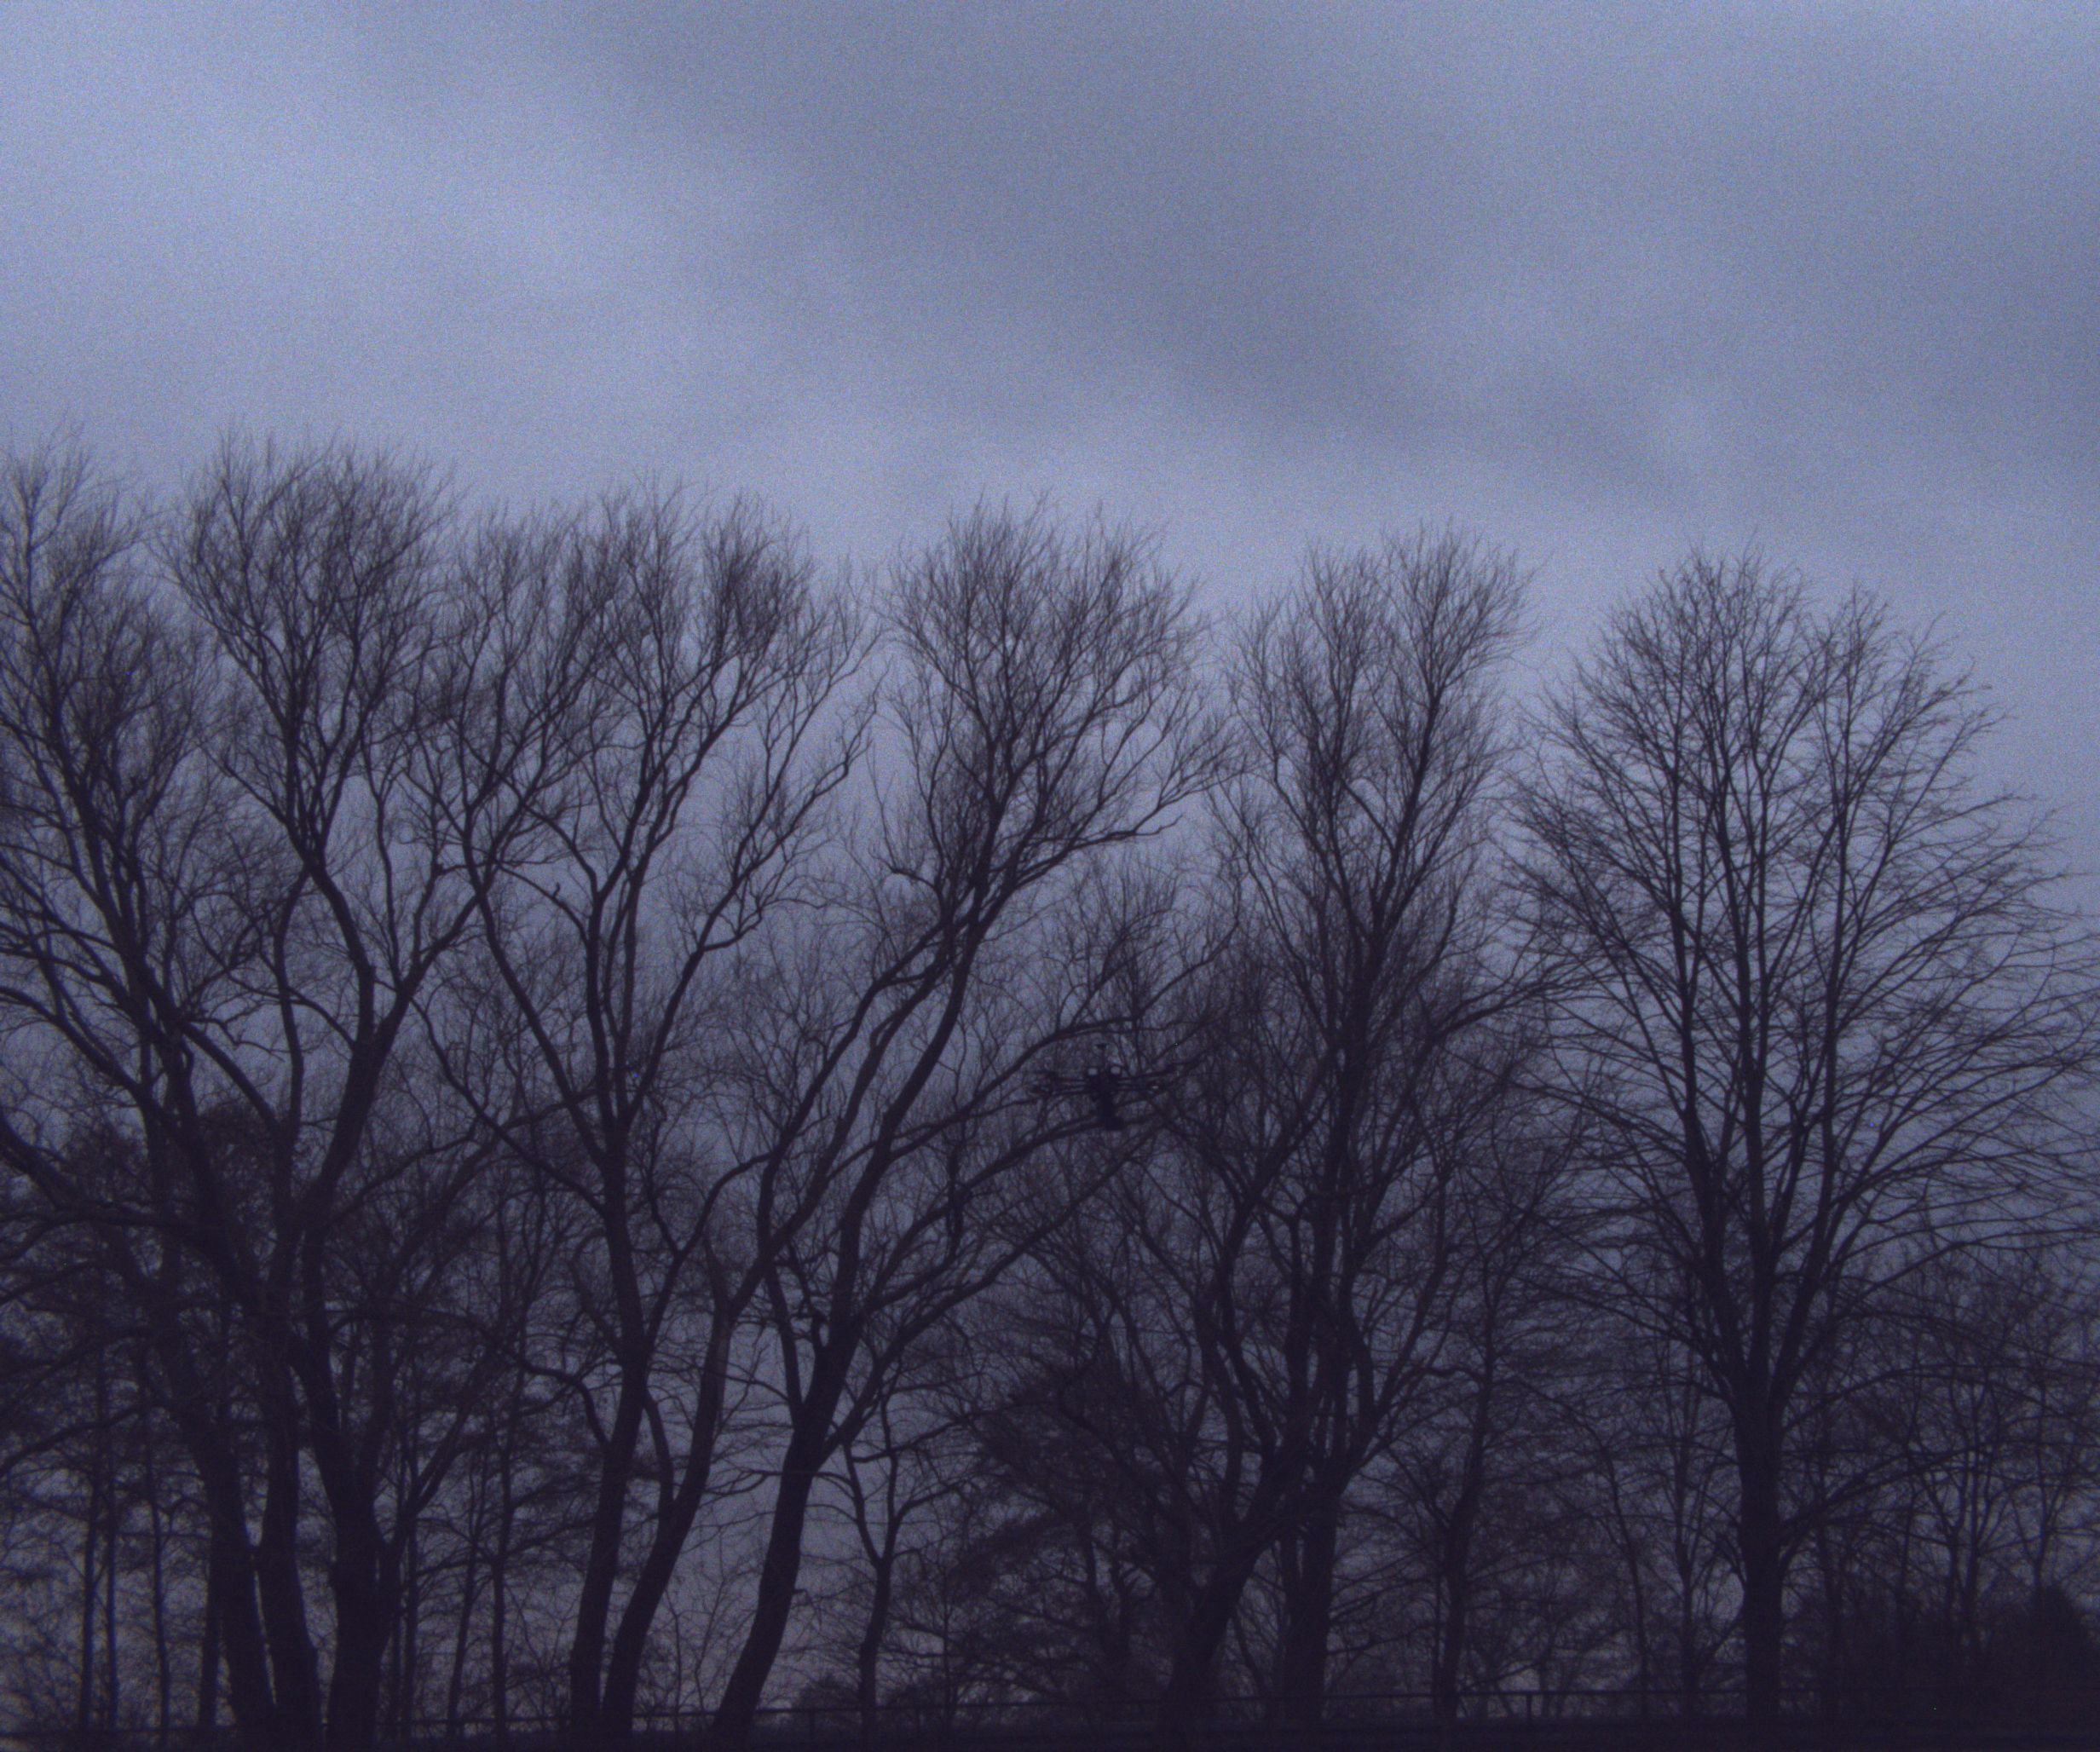Drohne: (1052, 1008, 1179, 1144)
